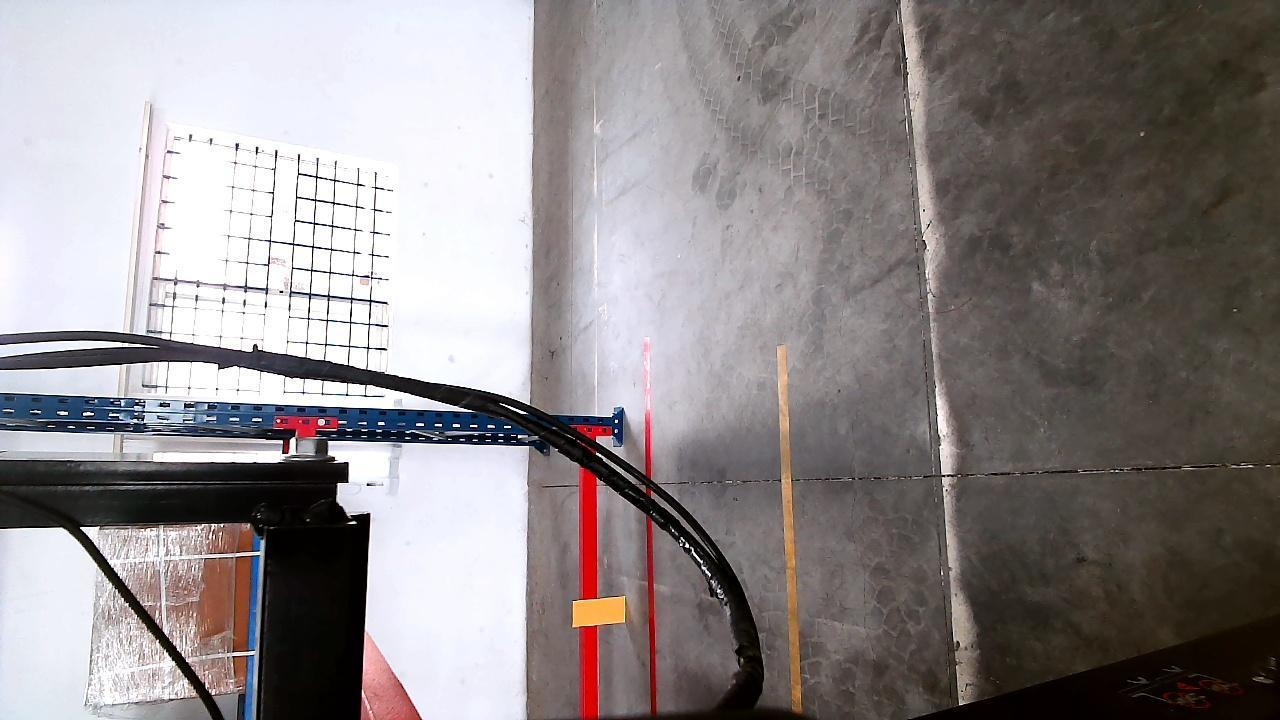h_rack: (575, 445, 606, 720)
orange_strip: (575, 596, 626, 627)
red_line: (636, 368, 663, 717)
yellow_line: (778, 348, 803, 711)
